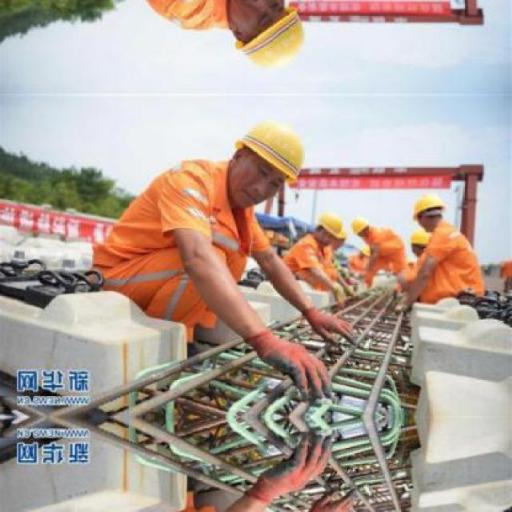helmet: (228, 112, 318, 190), (405, 189, 450, 223), (310, 207, 350, 244), (406, 226, 433, 252), (348, 212, 374, 238)
vest: (84, 156, 238, 269), (421, 220, 486, 297), (280, 230, 330, 278), (364, 226, 408, 275)
